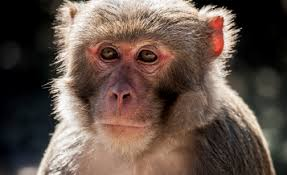monkey: (32, 6, 243, 172)
